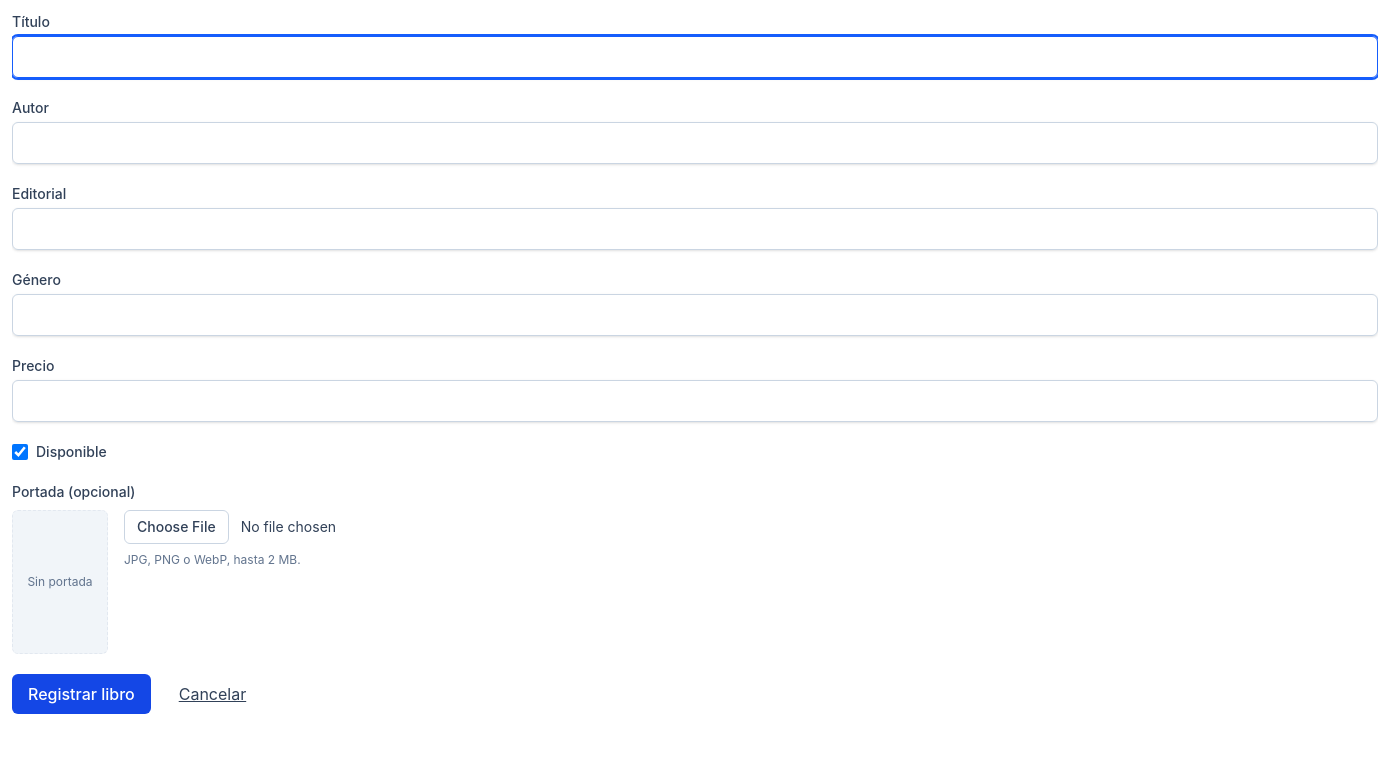
BookForm › validation › asks for every required field in Spanish and sends nothing
Click the button "Registrar libro": (81, 694) [12,674,151,714]
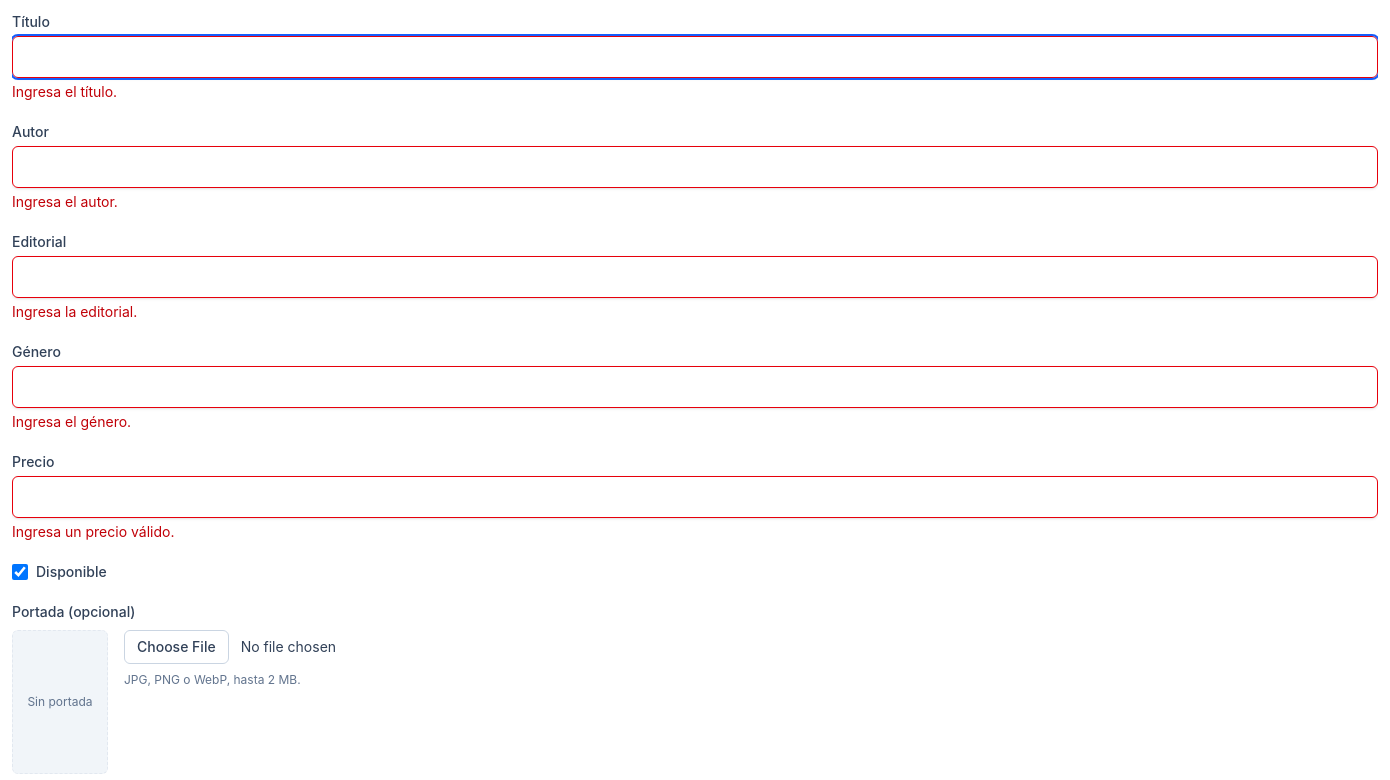
Expected: the text "Ingresa el título." is shown, [12,83,117,100]
Expected: the text "Ingresa el autor." is shown, [12,193,118,210]
Expected: the text "Ingresa la editorial." is shown, [12,303,137,320]
